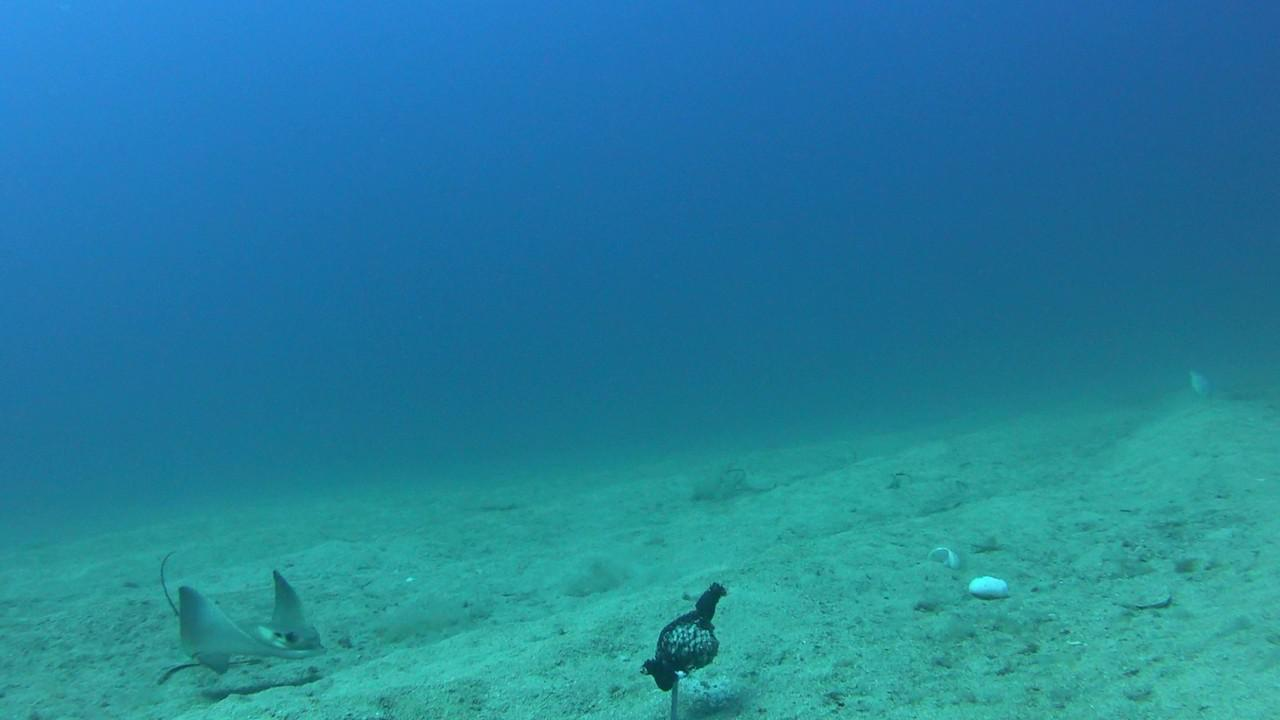myliobatis: (109, 527, 358, 676)
